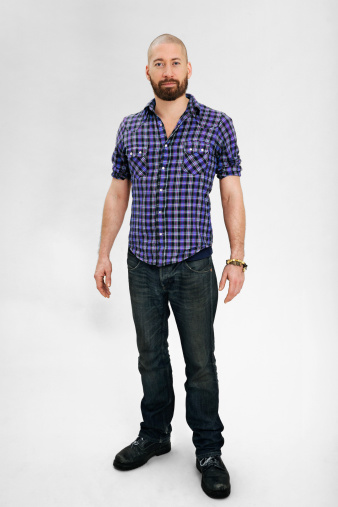em pe: (91, 33, 244, 484)
